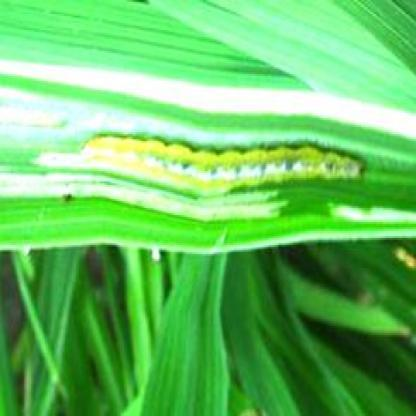leaf-folder: (74, 98, 381, 218)
